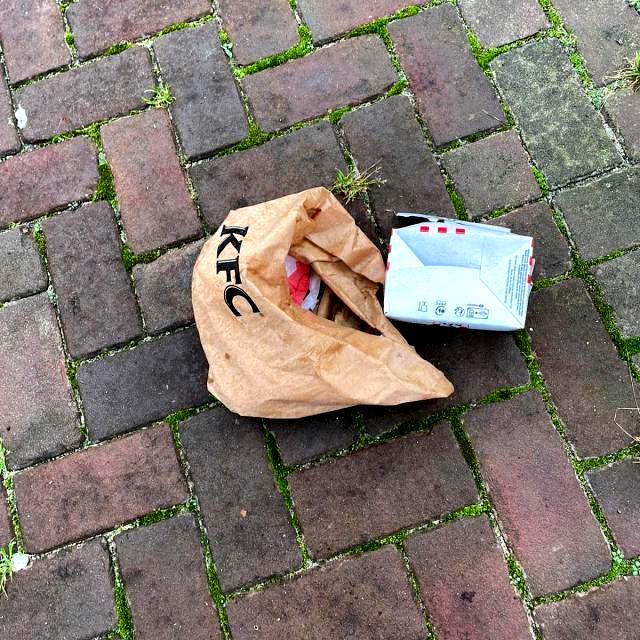Paper: (190, 185, 454, 421), (380, 208, 536, 334)
